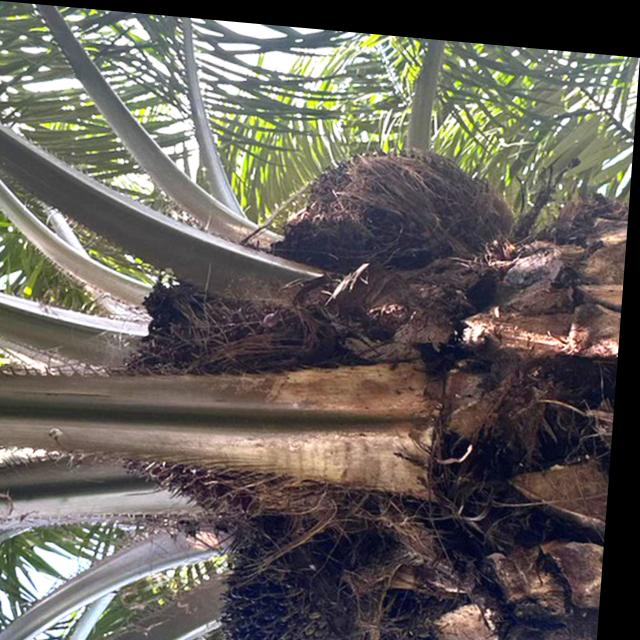ripe: (128, 282, 383, 511), (211, 500, 396, 640), (293, 147, 522, 255)
